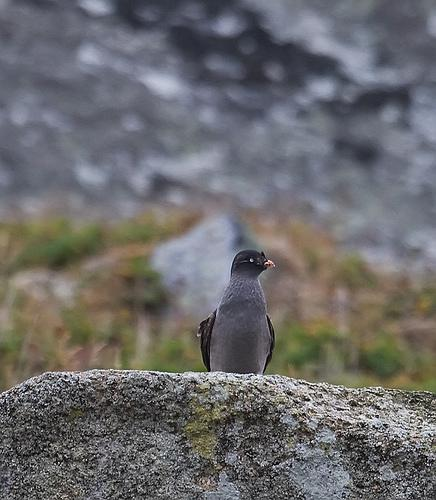005.Crested_Auklet: (196, 249, 281, 380)
